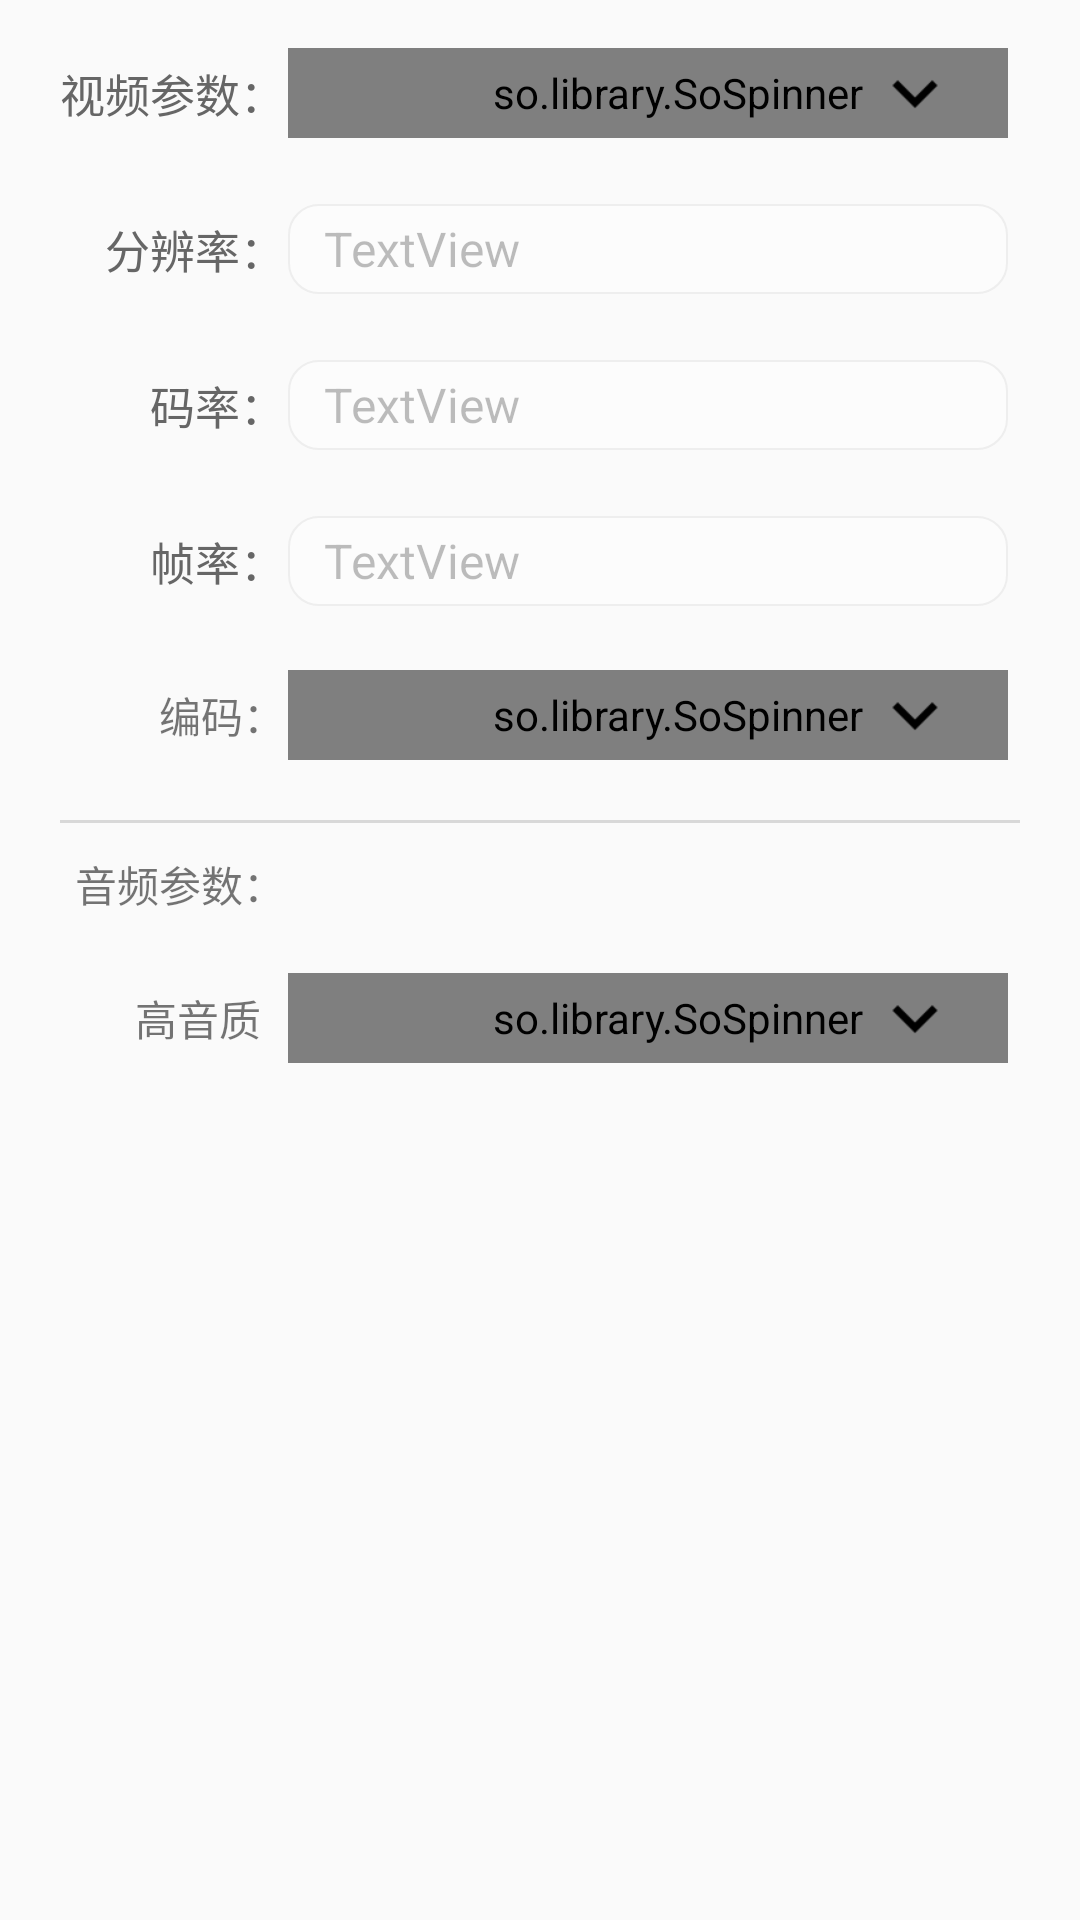

Named icons in this screenshot (1080px×1920px) and their centers, [x,y]:
arrow down: [915,94], [915,716], [915,1019]
